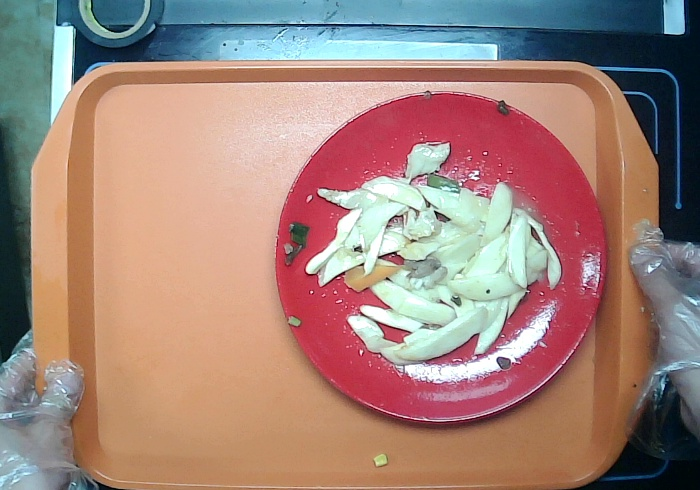HZYJPL-Hong_Se_Yuan_Pan: (260, 80, 612, 438)
